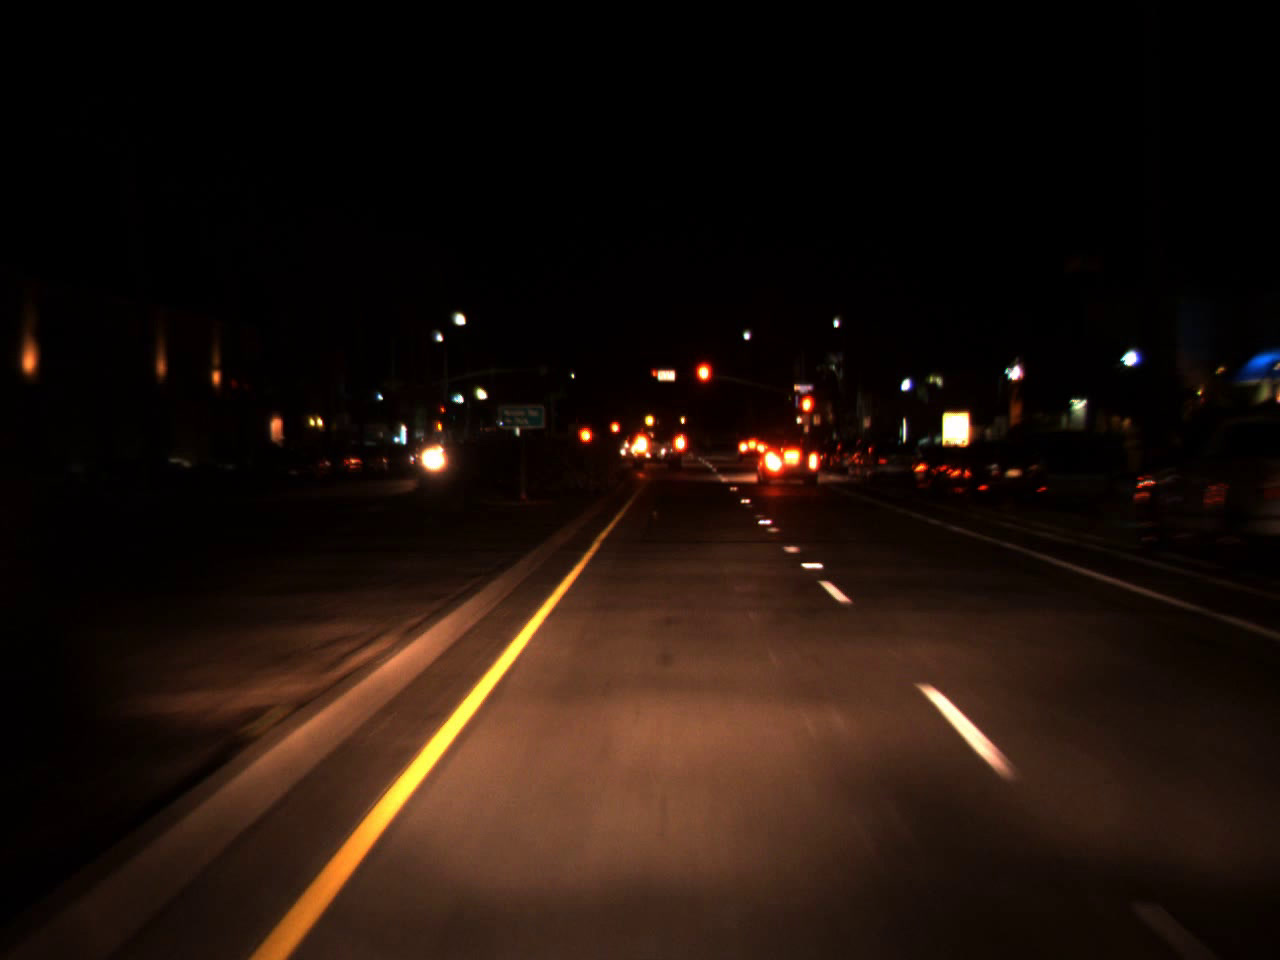stop: (693, 359, 714, 404), (799, 392, 817, 435), (651, 369, 658, 382), (439, 407, 445, 417)
